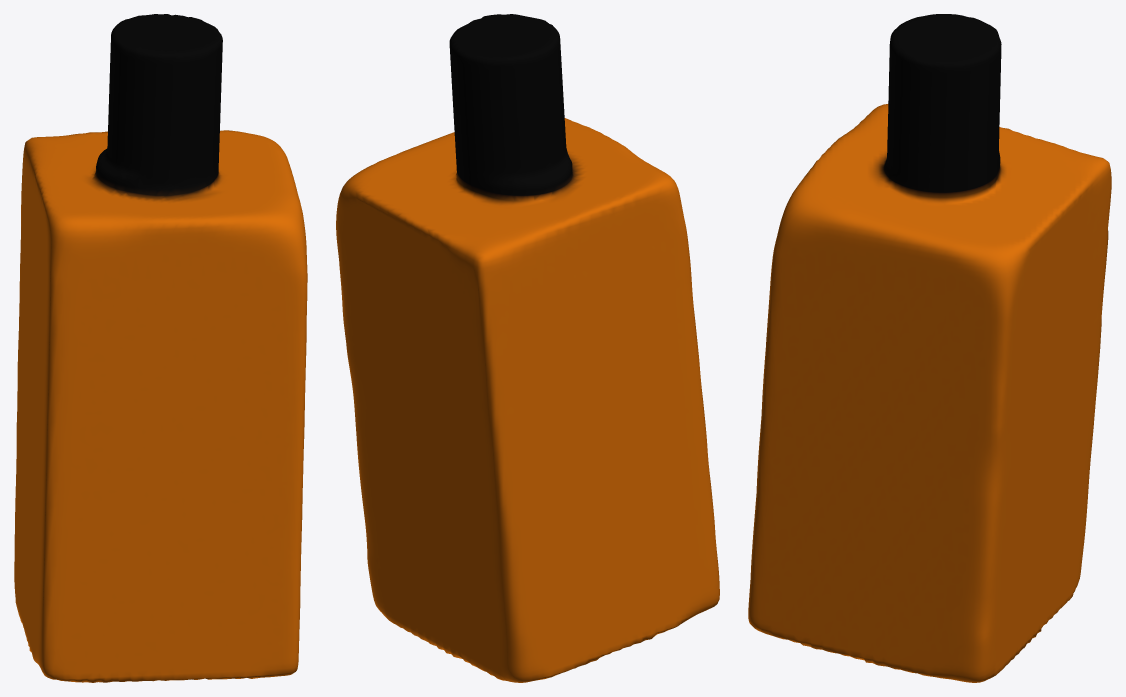
3 renders of one model, left to right at view 1: azimuth 30°, elevation 25°; view 2: azimuth 150°, elevation 25°; view 3: azimuth 270°, elevation 25°, orthographic.
Parts seen in each view (by area): view 1: ReferenceModel_Selection_15; view 2: ReferenceModel_Selection_15; view 3: ReferenceModel_Selection_15.
Boxes of the visible parts, box(x1,y1,x2,y2) form: ReferenceModel_Selection_15: box(14, 14, 307, 682); ReferenceModel_Selection_15: box(336, 14, 719, 682); ReferenceModel_Selection_15: box(748, 14, 1111, 682).
Bounding box in the file's own units: 24.91 × 45.79 × 25.27.
